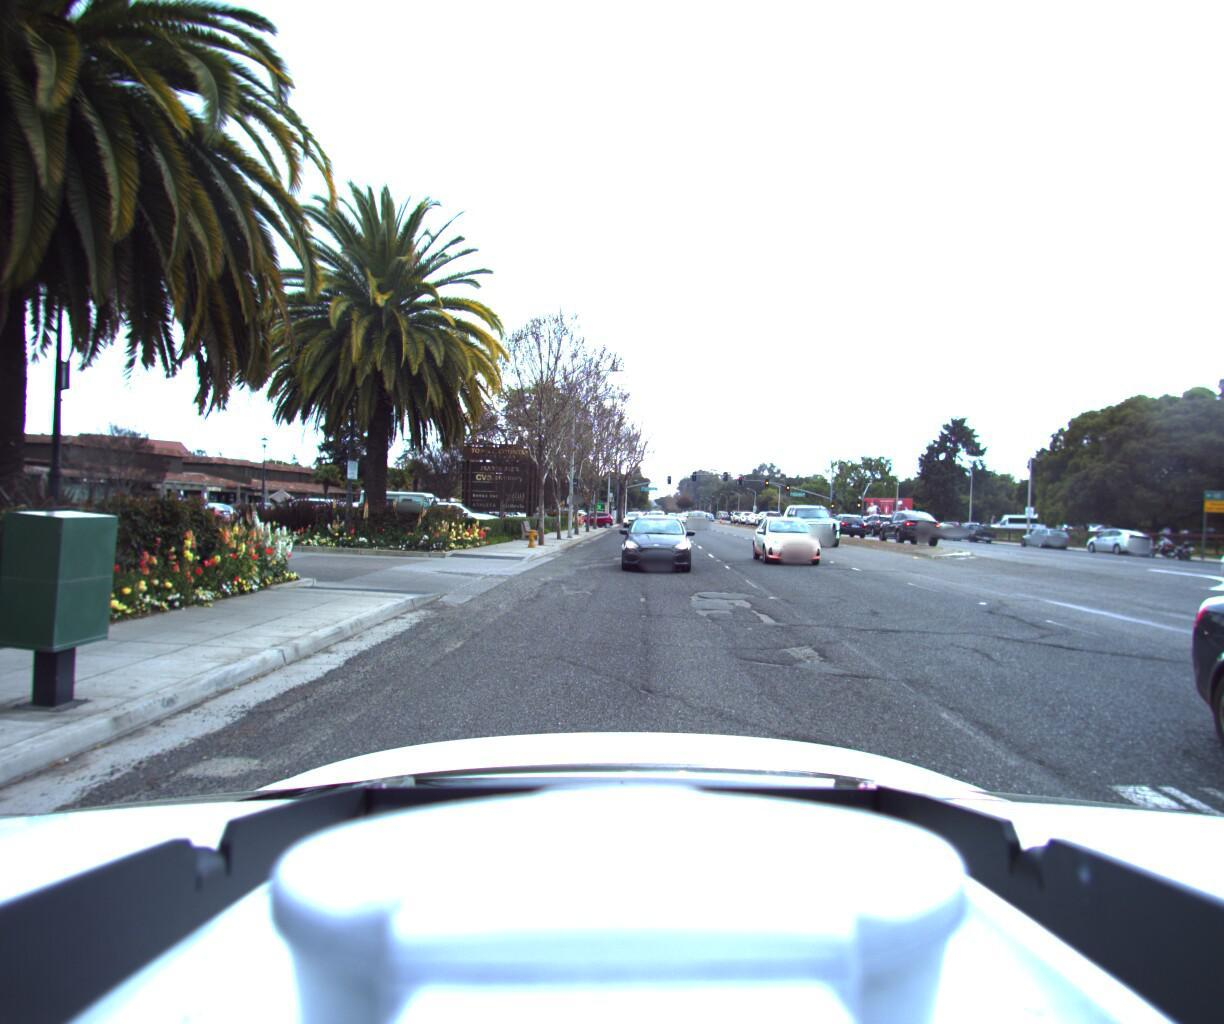car: (353, 490, 465, 545), (753, 515, 838, 571), (620, 513, 694, 577), (1168, 515, 1224, 592), (409, 501, 504, 539), (787, 505, 853, 551), (876, 510, 944, 547), (1081, 528, 1156, 560), (1016, 526, 1073, 552), (823, 514, 870, 539), (852, 514, 895, 538), (953, 523, 997, 545), (566, 511, 614, 528), (687, 510, 711, 531), (621, 510, 647, 528)
motorcycle: (1140, 531, 1202, 563)
other_vehicle: (1221, 481, 1224, 588)
